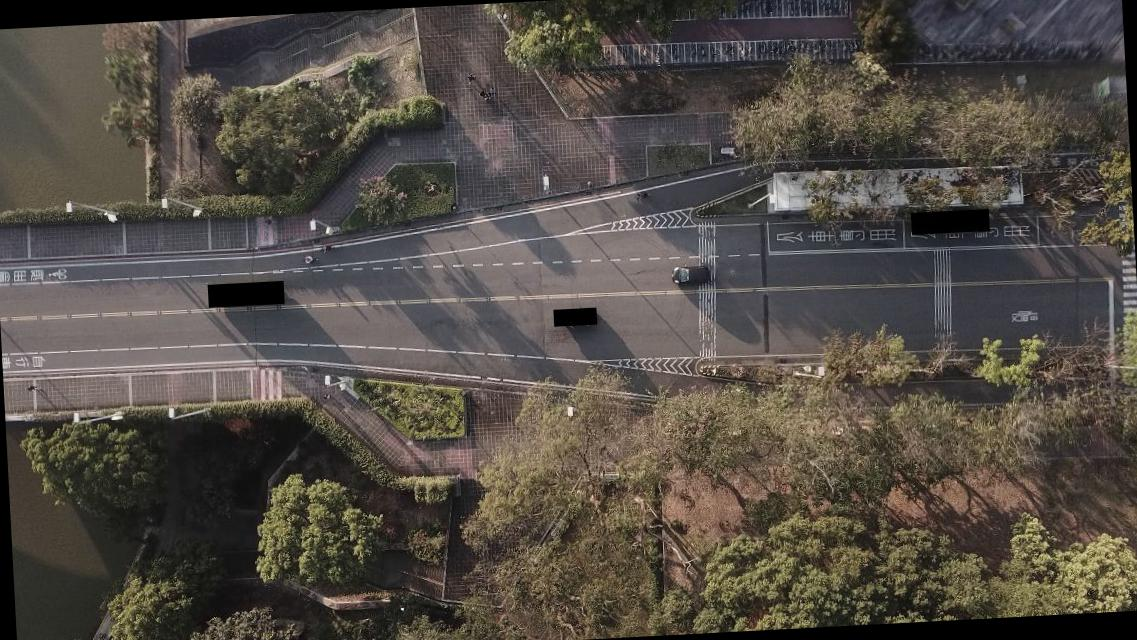vehicle: (670, 266, 710, 284)
